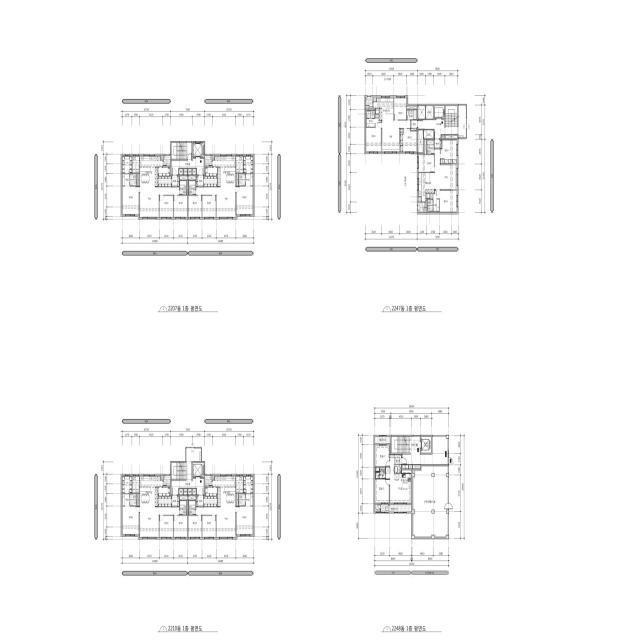space_balconi: (381, 505, 412, 512), (375, 436, 390, 443)
space_bedroom: (366, 118, 381, 152), (433, 191, 457, 212), (122, 506, 139, 535), (122, 186, 139, 215), (237, 506, 253, 535), (237, 186, 253, 215), (400, 129, 417, 152), (441, 140, 457, 163), (375, 479, 389, 503), (188, 196, 202, 218), (188, 516, 202, 538), (202, 516, 216, 538), (159, 516, 173, 538), (202, 196, 216, 218), (159, 196, 173, 218), (375, 445, 389, 466), (174, 516, 187, 538), (174, 196, 187, 218), (394, 97, 406, 120), (418, 155, 434, 172)
space_dressroom: (122, 475, 132, 493), (122, 155, 132, 173), (244, 475, 253, 493), (244, 155, 253, 173)
space_elevator: (421, 437, 431, 453), (193, 463, 204, 477), (193, 143, 204, 157), (434, 106, 444, 118)
space_elevator_hall: (171, 448, 204, 494), (403, 436, 448, 464), (418, 118, 457, 138), (171, 159, 204, 174)
space_front: (204, 496, 217, 506), (204, 176, 217, 186), (158, 497, 171, 506), (158, 177, 171, 186), (390, 455, 402, 464), (172, 496, 179, 506), (196, 496, 203, 506), (172, 176, 179, 186), (196, 176, 203, 186), (411, 120, 417, 130), (435, 140, 442, 148)
space_kitchen: (140, 475, 163, 507), (212, 475, 235, 507), (140, 155, 163, 187), (212, 155, 235, 187), (373, 97, 394, 120), (418, 173, 435, 201), (395, 474, 411, 490), (158, 487, 170, 496), (158, 167, 170, 176), (205, 488, 217, 496), (205, 168, 217, 176)
space_living_room: (196, 507, 236, 538), (139, 507, 179, 538), (139, 187, 179, 218), (196, 187, 236, 218), (386, 458, 411, 503), (382, 120, 410, 152), (435, 149, 457, 189)
space_other: (413, 466, 448, 537), (458, 105, 466, 138), (236, 475, 243, 493), (132, 475, 139, 493), (236, 155, 243, 173), (132, 155, 139, 173), (418, 130, 423, 152), (426, 106, 433, 119), (418, 106, 425, 119), (376, 468, 385, 478), (365, 97, 373, 108), (424, 130, 434, 138), (418, 202, 426, 212), (395, 465, 401, 473), (375, 505, 381, 512), (446, 135, 457, 138), (188, 496, 196, 500), (188, 176, 196, 180), (407, 106, 417, 109), (180, 496, 187, 500), (180, 176, 187, 180), (402, 470, 411, 473), (137, 494, 139, 506), (236, 494, 238, 506), (236, 174, 238, 186), (137, 174, 139, 186), (413, 465, 420, 468), (192, 489, 196, 494), (188, 489, 192, 494), (179, 489, 183, 494), (192, 169, 196, 174), (179, 169, 183, 174), (188, 169, 192, 174), (375, 114, 379, 118), (403, 465, 408, 468), (184, 489, 187, 494), (184, 169, 187, 174), (425, 140, 426, 154), (441, 135, 445, 138), (409, 465, 412, 468), (424, 208, 426, 212), (431, 194, 433, 198), (419, 197, 421, 201), (212, 476, 214, 480), (212, 156, 214, 160), (374, 98, 376, 101), (366, 106, 369, 108)
space_outdoor_room: (205, 475, 212, 486), (205, 155, 212, 166), (164, 475, 170, 486), (164, 155, 170, 166)
space_staircase: (171, 143, 192, 159), (391, 437, 410, 453), (171, 463, 186, 479), (446, 106, 457, 127)
space_toilet: (367, 110, 375, 127), (428, 199, 439, 211), (427, 140, 434, 154), (180, 501, 187, 515), (189, 501, 196, 515), (180, 181, 187, 195), (189, 181, 196, 195), (407, 110, 417, 119), (123, 494, 130, 506), (246, 494, 253, 506), (123, 174, 130, 186), (246, 174, 253, 186), (239, 494, 245, 500), (239, 174, 245, 180), (130, 500, 137, 505), (130, 494, 137, 499), (130, 174, 137, 179), (130, 180, 137, 185), (239, 500, 245, 505), (239, 180, 245, 185)
